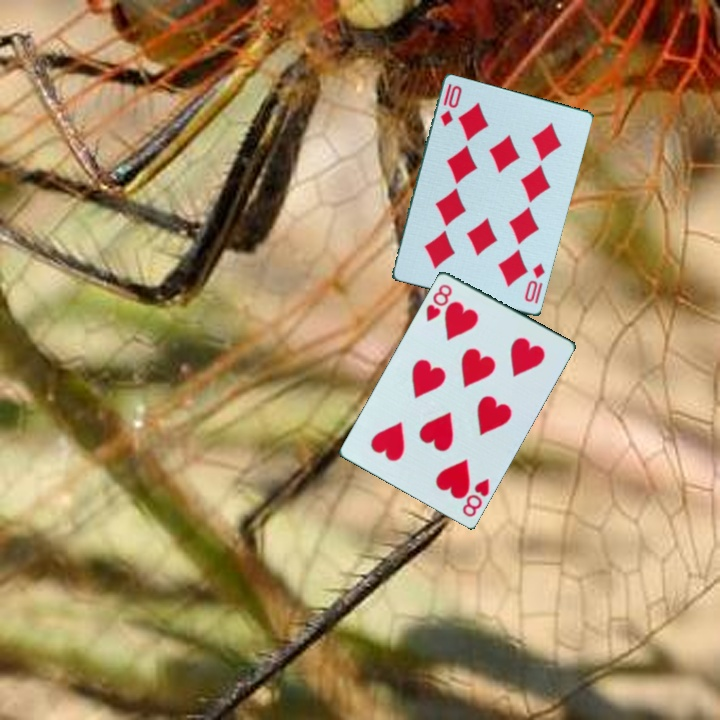10d: (436, 80, 465, 130), (521, 260, 548, 307)
8h: (459, 474, 492, 519), (422, 280, 455, 324)
